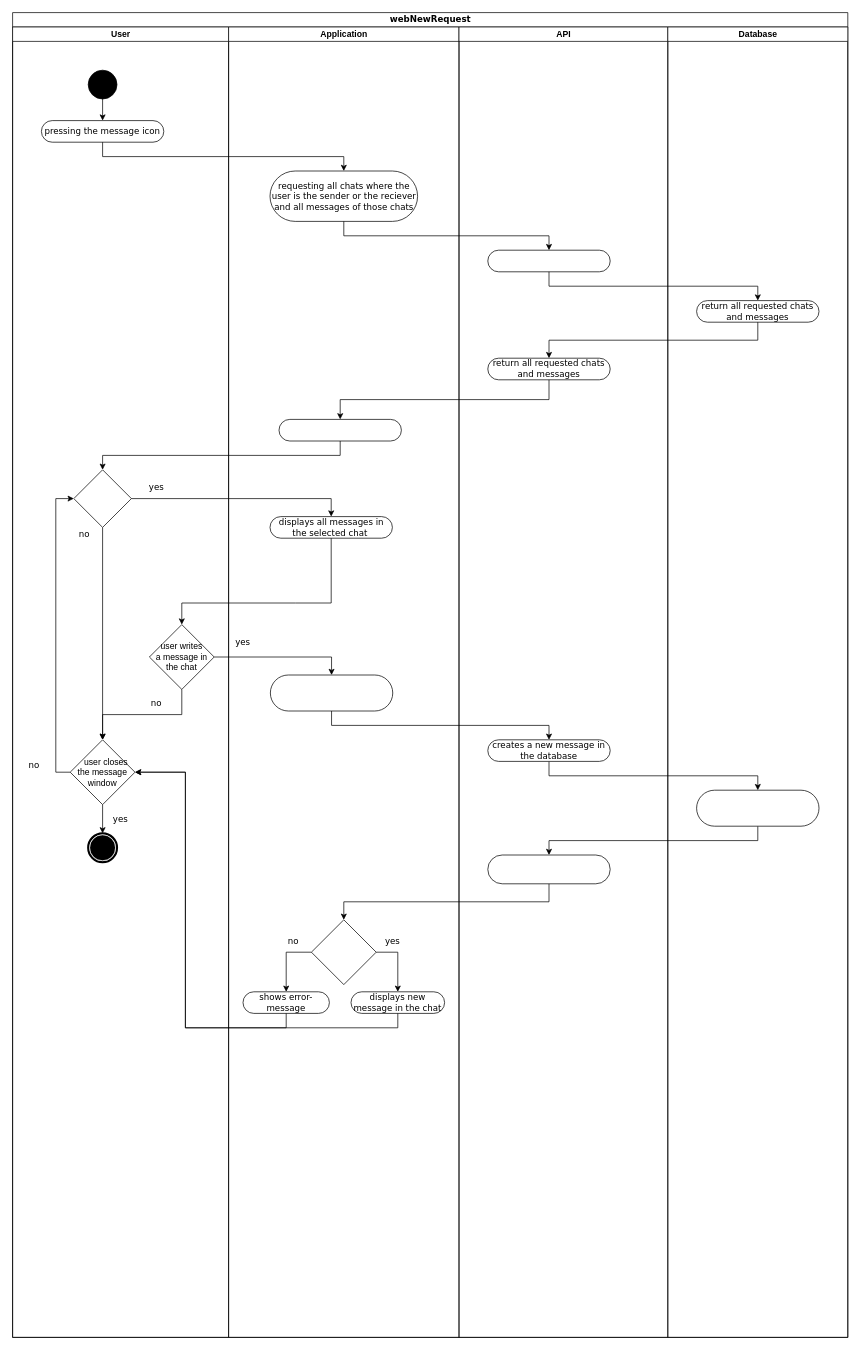
Some shapes in this 860 by 1350 pixel diagram are drawn without their labels. The centre of each missing label's shape, as x and y in pixels:
creates a new Message with the given text and a timestamp to the API: point (331, 692)
creates the new message and return if it was succesfull created: point (757, 807)
displays all chats and their topics: point (339, 430)
gets all requested chats and messages: point (548, 260)
returns if the message was succesfully created: point (548, 869)
succesfully created: point (343, 952)
user selects a chat: point (102, 498)
